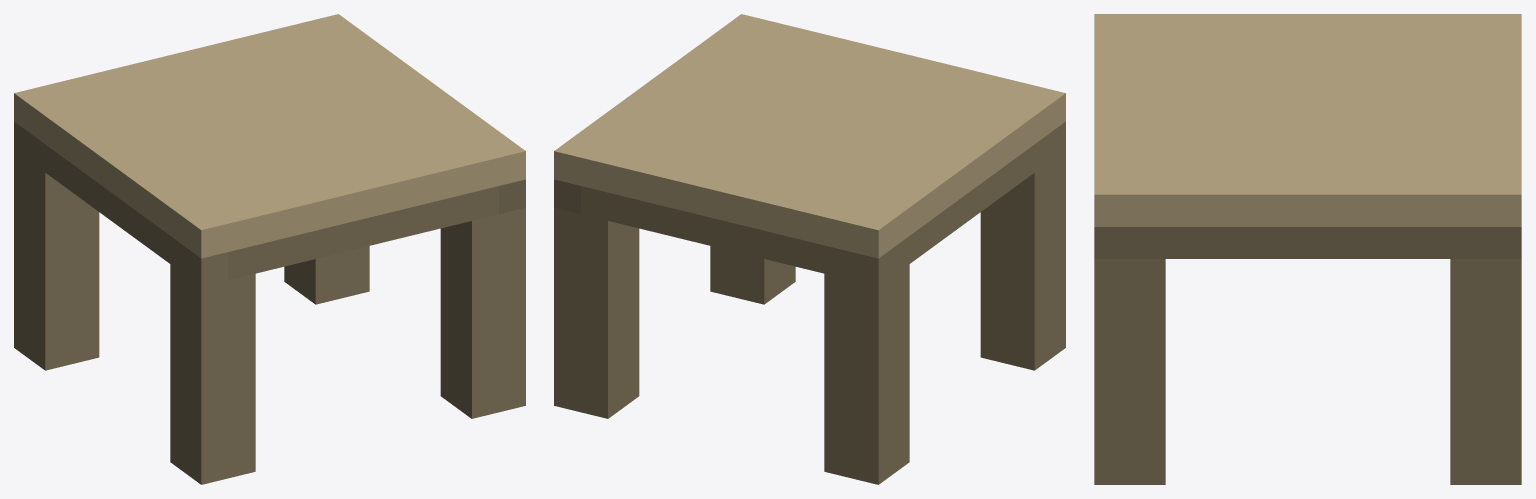
Rendered from mesa_encordado_desgastada_01.glb.
The picture shows the model from 3 angles, left to right: view 1: azimuth 30°, elevation 25°; view 2: azimuth 150°, elevation 25°; view 3: azimuth 270°, elevation 25°; orthographic projection. The views are drawn at different scales.
Visible parts, largest first — view 1: mesa_encordado_desgastada; view 2: mesa_encordado_desgastada; view 3: mesa_encordado_desgastada.
Boxes of the visible parts, x1,y1,x2,y2 form: mesa_encordado_desgastada: (14, 14, 525, 484); mesa_encordado_desgastada: (554, 14, 1065, 484); mesa_encordado_desgastada: (1094, 14, 1521, 484).
Bounding box in the file's own units: 1 × 0.75 × 1.
